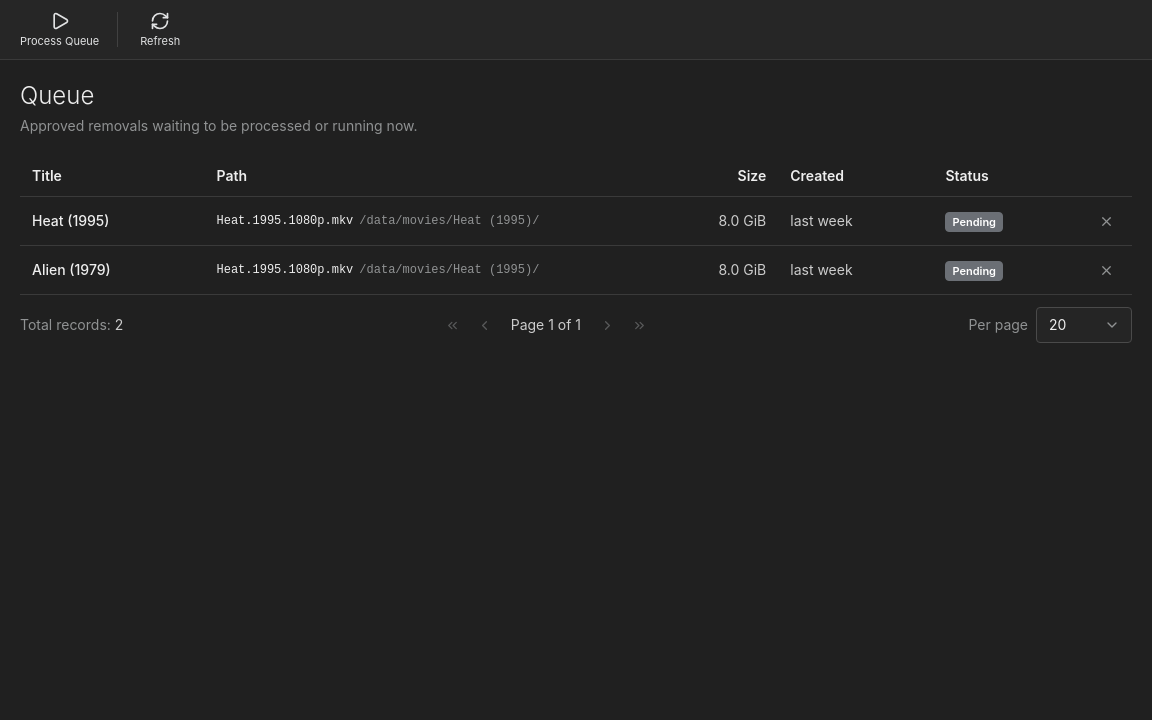
Test: <QueuePage> › cancels a pending action only after confirmation
Click the button named "Cancel removal of Heat (1995)" at (1106, 221), box [1092,207,1120,235]
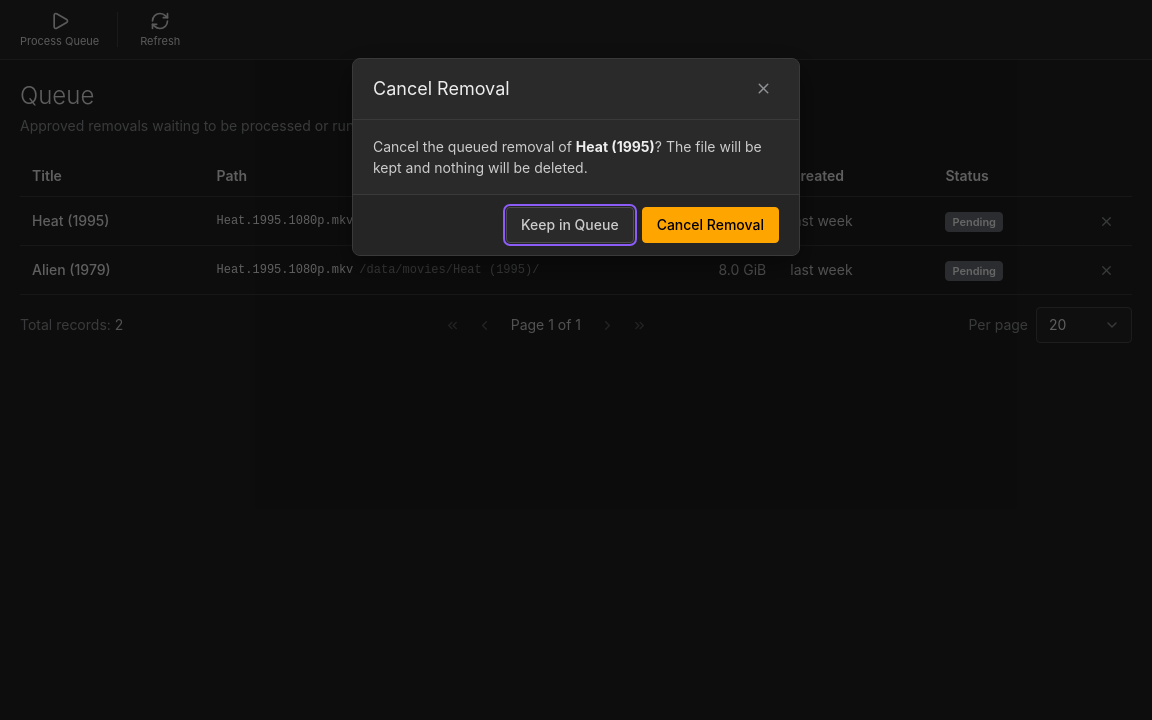
Result: the text "Heat (1995)" is shown at [576,138,655,155]
Click the button "Cancel Removal" at (710, 225), box [642,207,779,243]
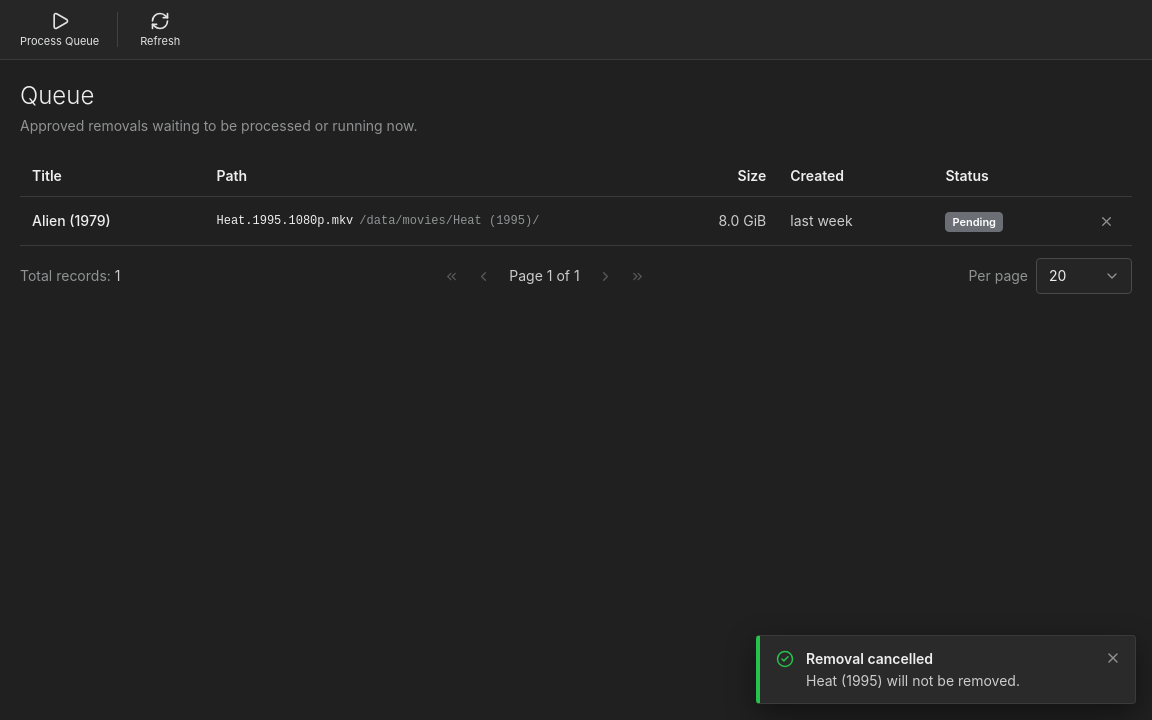
Expected: the link "Alien (1979)" is shown, [32,212,111,229]
Result: the text "Removal cancelled" is shown at [806,650,933,667]
Result: the dialog is gone
